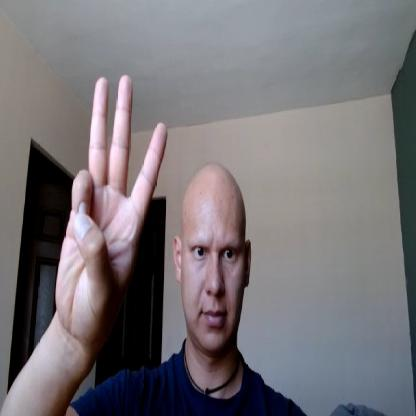W: (55, 70, 170, 337)
